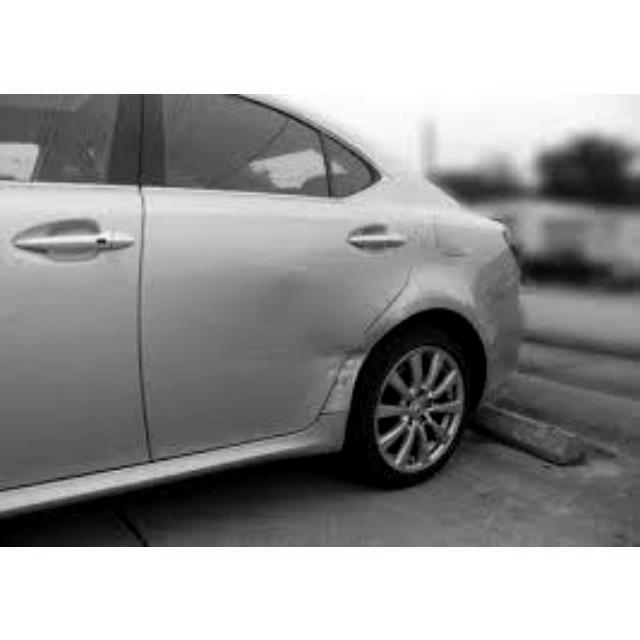doorouter-dent: (231, 283, 374, 431)
